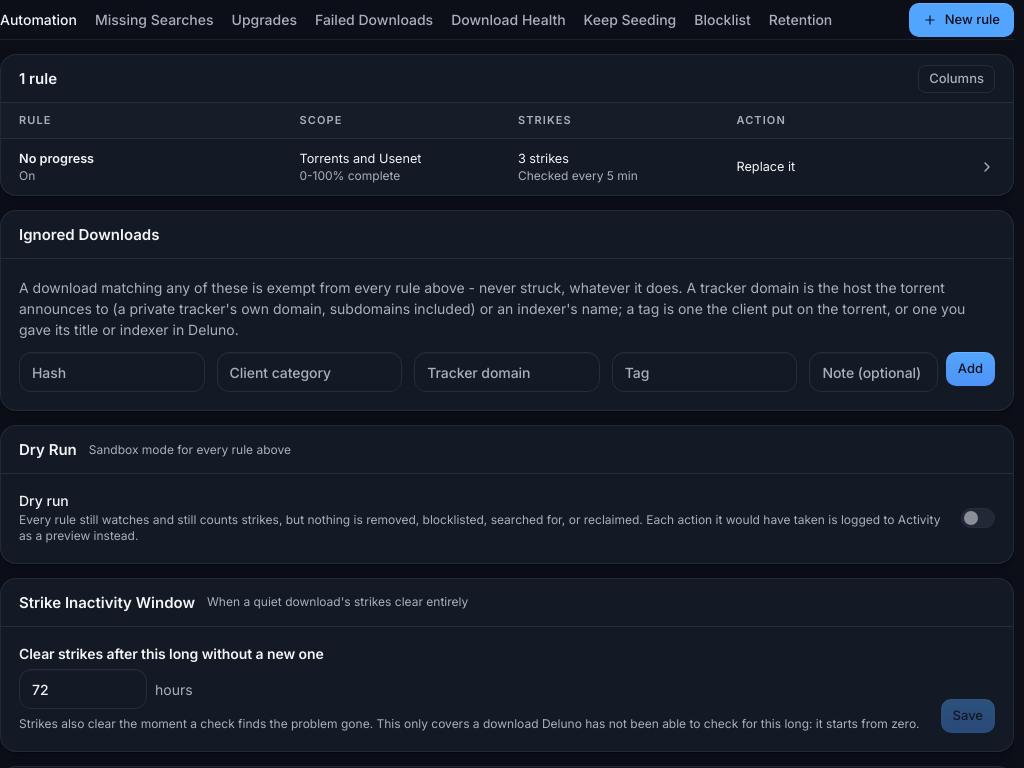
Test: a rule can keep a private torrent seeding instead of removing it (#1240) › reads a rule saved before the setting existed as removing
The image size is (1024, 768).
Click the text "No progress" at [57, 158], box [19, 151, 94, 166]
(page scrolled)
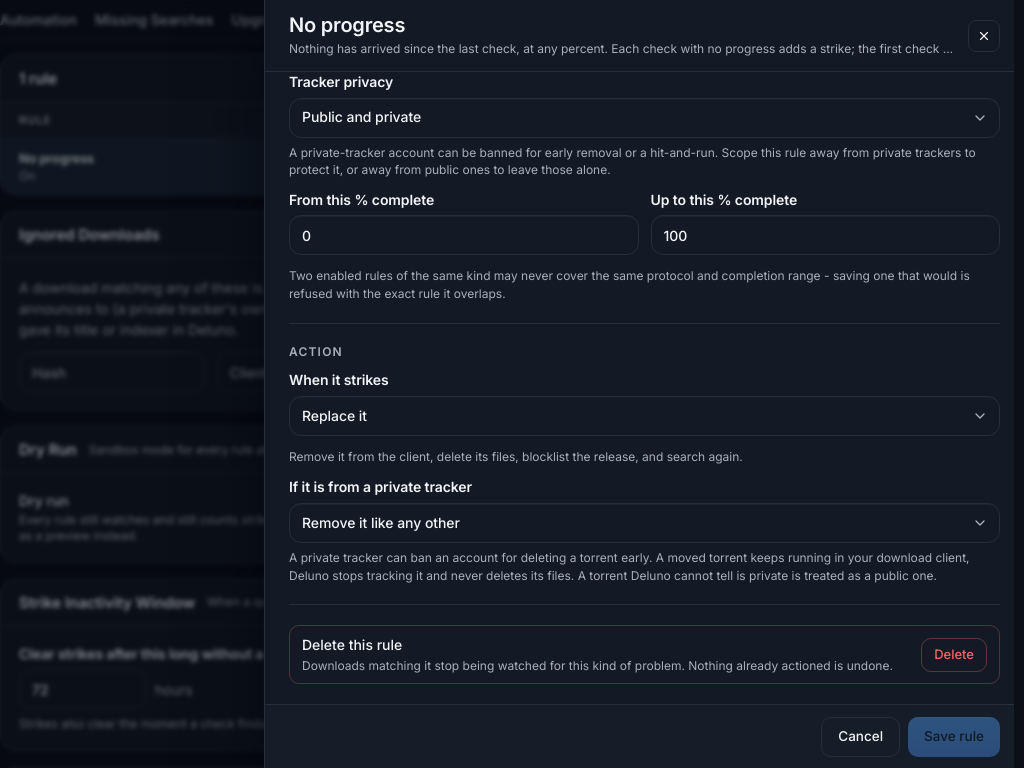
Expected: the dropdown labelled "If it is from a private tracker" shows "Remove it like any other", [289, 503, 1000, 543]
